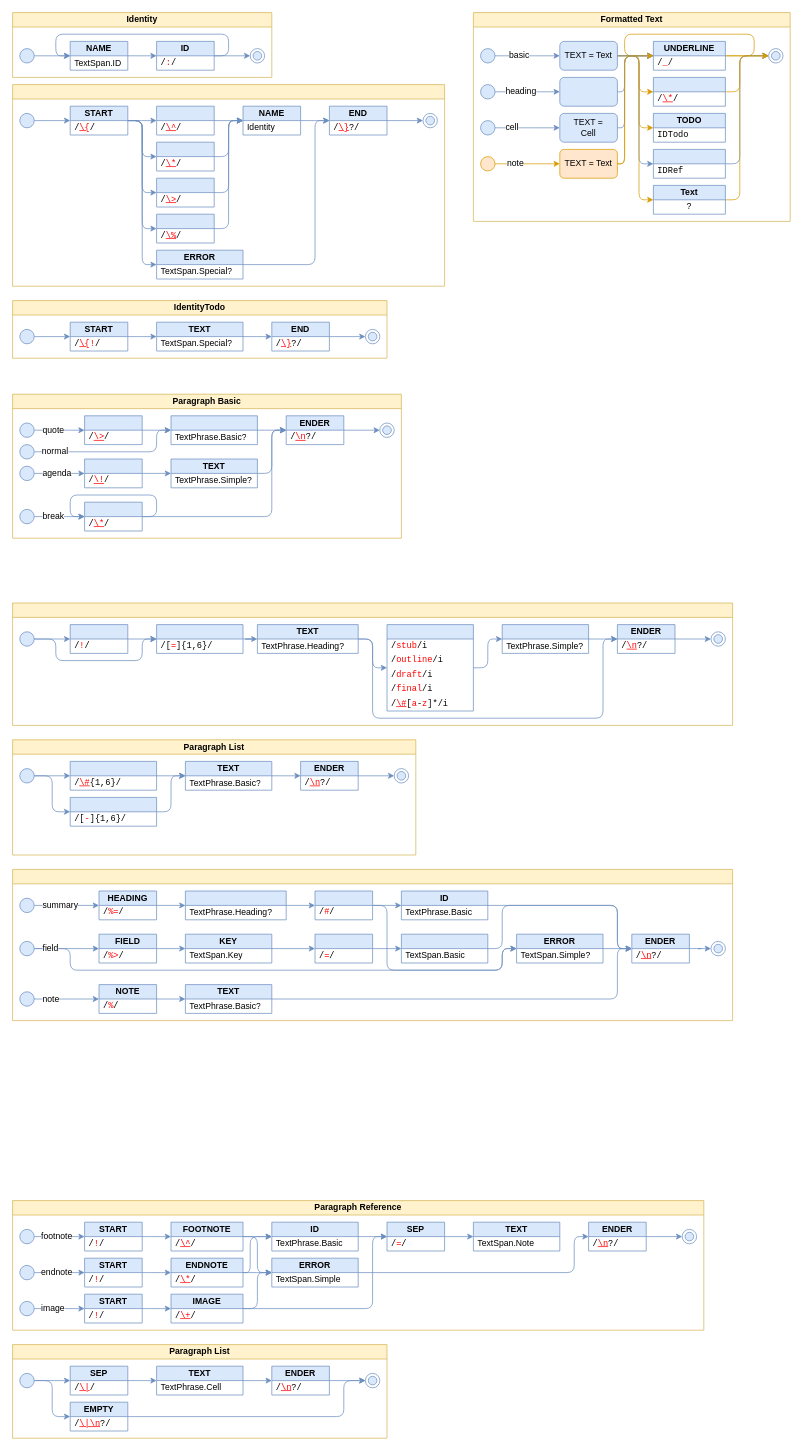
The diagram is 803 pixels wide and 1451 high, and some of its shapes have lost their labels. Here are the shapes that lost their labels. From the top down, the box of each, then its label:
(559, 77, 617, 106): TEXT = Heading
(653, 77, 725, 106): BOLD
(156, 105, 214, 135): FOOTREF
(156, 141, 214, 171): ENDREF
(653, 149, 725, 178): Refer
(156, 177, 214, 207): CITEREF
(12, 84, 445, 286): IdentityReference
(156, 213, 214, 243): METAREF
(84, 415, 142, 445): QUOTER
(170, 415, 257, 445): FORMATTED
(84, 458, 142, 488): TODOER
(84, 501, 142, 531): BREAKER
(69, 624, 128, 653): Outline
(156, 624, 243, 653): LEVEL
(501, 624, 589, 653): DETAILS
(12, 602, 733, 725): Paragraph Heading
(386, 624, 473, 711): Status
(69, 761, 157, 790): NUMBERED
(69, 797, 157, 826): BULLET
(185, 890, 286, 920): TITLE
(314, 890, 373, 920): IDER
(314, 933, 373, 963): FIELDER
(12, 869, 733, 1021): Paragraph Note
(401, 933, 488, 963): VALUE
